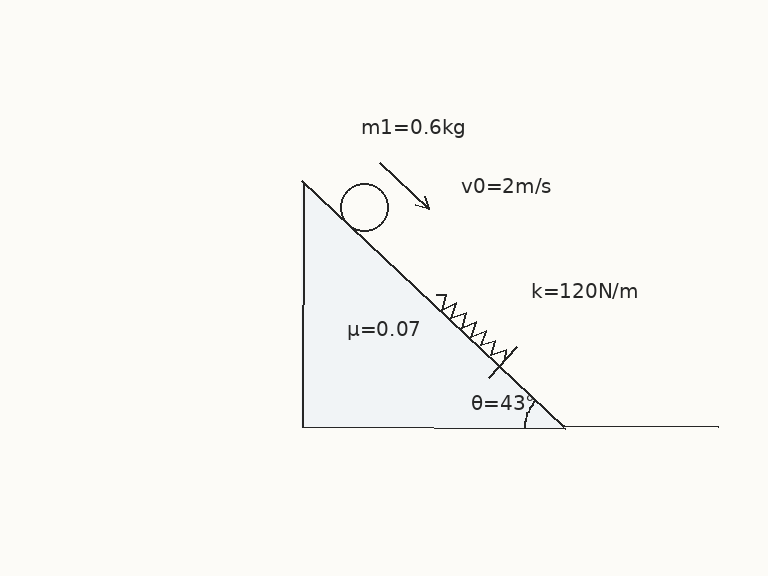ball: (338, 181, 390, 233)
ramp: (300, 179, 567, 429)
spring: (435, 293, 507, 361)
